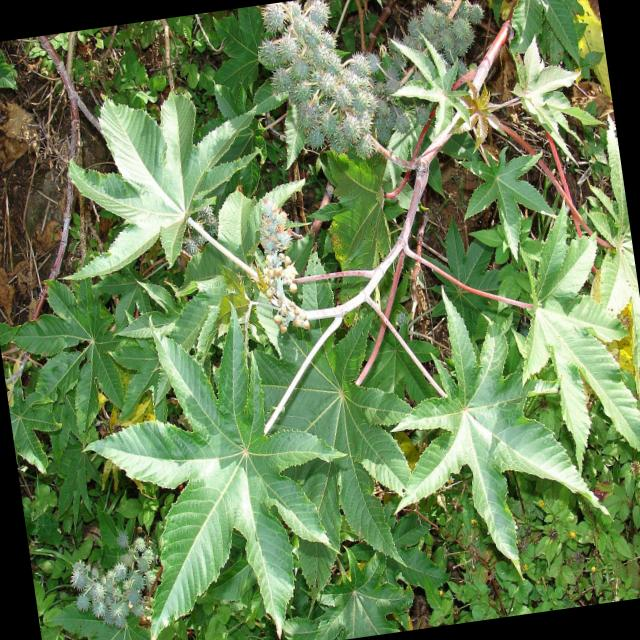Castor Oil Plant: (103, 320, 381, 625), (352, 254, 596, 553), (379, 0, 618, 274), (219, 0, 445, 277), (44, 65, 274, 299), (441, 191, 640, 452), (0, 268, 158, 484)
